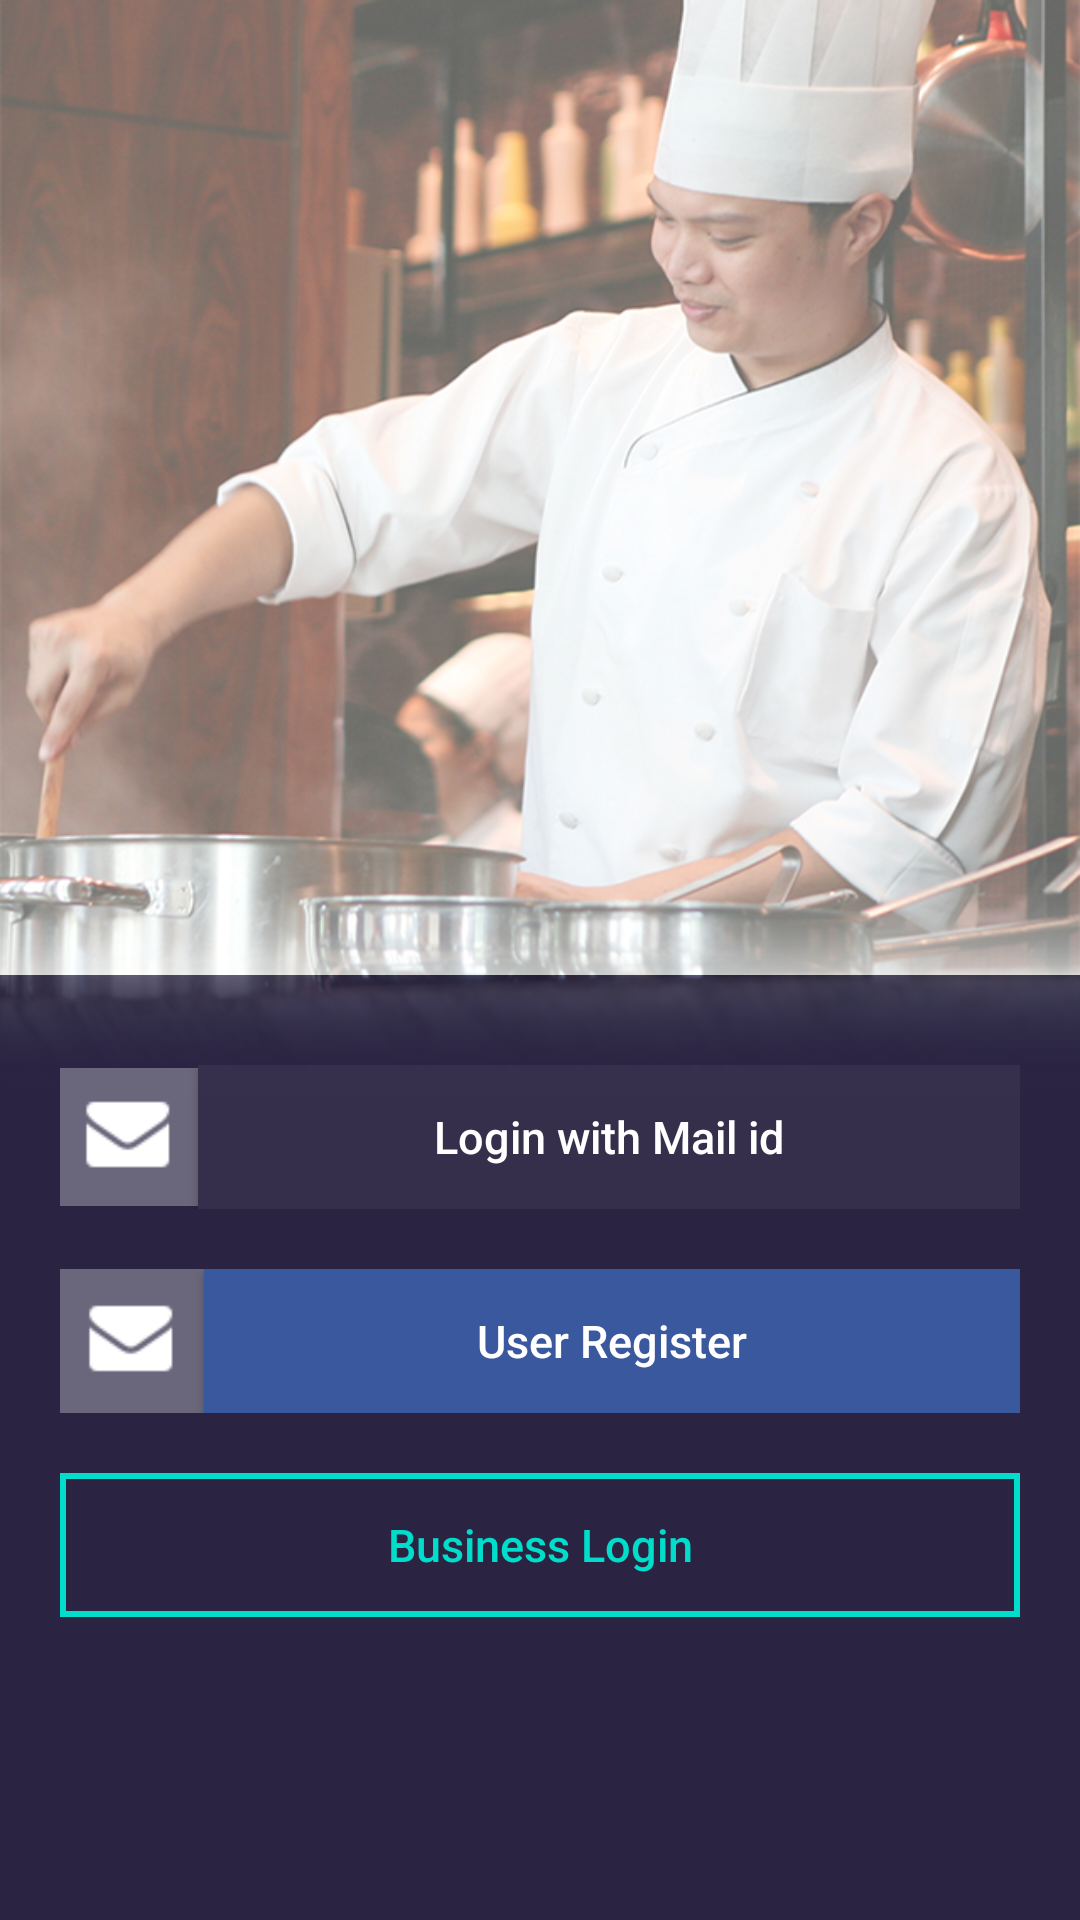

Icons on this 1080w x 1920h Android screen, each with its box as {"left": x1, "top": y1, "right": x2, "bottom": y2}:
mailbox: {"left": 86, "top": 1101, "right": 170, "bottom": 1168}, {"left": 89, "top": 1305, "right": 173, "bottom": 1372}
